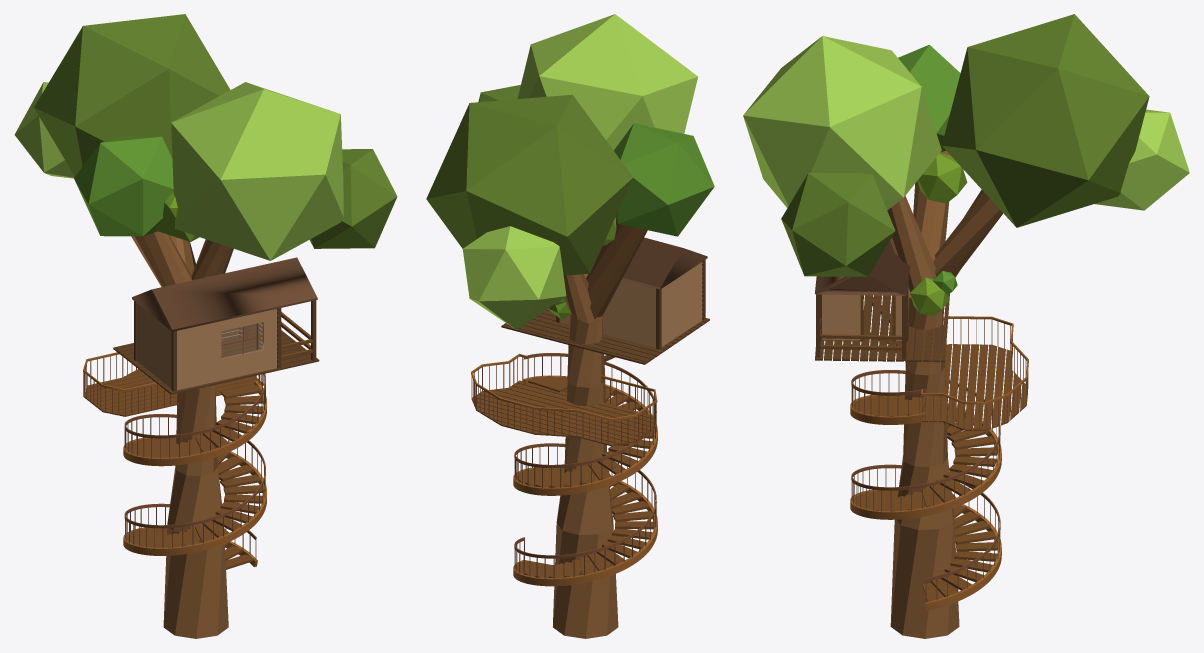
Rendered from Baumhaus.fbx.
The picture shows the model from 3 angles, left to right: view 1: azimuth 30°, elevation 25°; view 2: azimuth 150°, elevation 25°; view 3: azimuth 270°, elevation 25°; orthographic projection. The views are drawn at different scales.
Visible parts, largest first — view 1: Platonischer_Körper_2, Platonischer_Körper, Stamm, Platonischer_Körper_1, Stufen, Haus_Dach, Wand_links, Platonischer_Körper_6, Bannister, Plattform_Boden, Haus_Boden, Platonischer_Körper_7 (+10 smaller); view 2: Platonischer_Körper, Platonischer_Körper_2, Stamm, Platonischer_Körper_1, Platonischer_Körper_7, Stufen, Plattform_Boden, Bannister, Wand_rechts, Stamm_1_2, Haus_Boden, Haus_Dach (+8 smaller); view 3: Platonischer_Körper, Platonischer_Körper_2, Stamm, Platonischer_Körper_6, Stufen, Plattform_Boden, Platonischer_Körper_7, Haus_Boden, Bannister, Platonischer_Körper_1, Haus_Dach, Stamm_1_3 (+11 smaller).
Boxes of the visible parts, x1=… form: Platonischer_Körper_2: x1=171, y1=82, x2=343, y2=260; Platonischer_Körper: x1=34, y1=14, x2=230, y2=176; Stamm: x1=163, y1=385, x2=228, y2=638; Platonischer_Körper_1: x1=74, y1=136, x2=173, y2=236; Stufen: x1=127, y1=385, x2=264, y2=569; Haus_Dach: x1=132, y1=257, x2=317, y2=331; Wand_links: x1=177, y1=309, x2=277, y2=390; Platonischer_Körper_6: x1=310, y1=149, x2=397, y2=248; Bannister: x1=123, y1=380, x2=266, y2=567; Plattform_Boden: x1=84, y1=369, x2=264, y2=416; Haus_Boden: x1=113, y1=323, x2=319, y2=394; Platonischer_Körper_7: x1=14, y1=82, x2=74, y2=178; Platonischer_Körper: x1=426, y1=94, x2=633, y2=275; Platonischer_Körper_2: x1=517, y1=14, x2=697, y2=150; Stamm: x1=553, y1=313, x2=618, y2=638; Platonischer_Körper_1: x1=614, y1=123, x2=714, y2=236; Platonischer_Körper_7: x1=462, y1=226, x2=566, y2=329; Stufen: x1=517, y1=375, x2=654, y2=577; Plattform_Boden: x1=472, y1=380, x2=656, y2=446; Bannister: x1=513, y1=375, x2=657, y2=586; Wand_rechts: x1=560, y1=279, x2=655, y2=347; Stamm_1_2: x1=586, y1=219, x2=647, y2=318; Haus_Boden: x1=501, y1=309, x2=709, y2=364; Haus_Dach: x1=622, y1=237, x2=707, y2=289; Platonischer_Körper: x1=942, y1=14, x2=1149, y2=227; Platonischer_Körper_2: x1=743, y1=36, x2=941, y2=210; Stamm: x1=890, y1=291, x2=959, y2=638; Platonischer_Körper_6: x1=781, y1=173, x2=895, y2=276; Stufen: x1=851, y1=395, x2=997, y2=601; Plattform_Boden: x1=922, y1=344, x2=1026, y2=430; Platonischer_Körper_7: x1=1095, y1=109, x2=1189, y2=210; Haus_Boden: x1=815, y1=294, x2=949, y2=362; Bannister: x1=850, y1=394, x2=1001, y2=610; Platonischer_Körper_1: x1=898, y1=44, x2=960, y2=151; Haus_Dach: x1=815, y1=241, x2=909, y2=295; Stamm_1_3: x1=933, y1=189, x2=1003, y2=277.
Bounding box in the file's own units: 1031 × 2050 × 1388.
